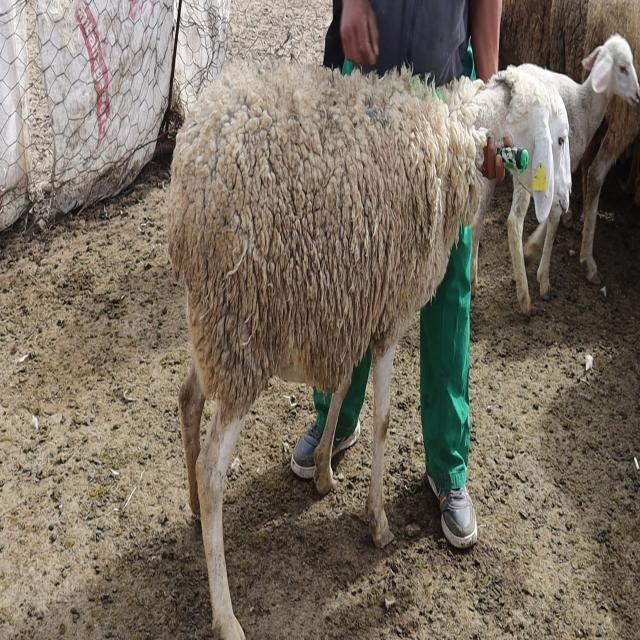Score_2: (167, 60, 571, 639)
